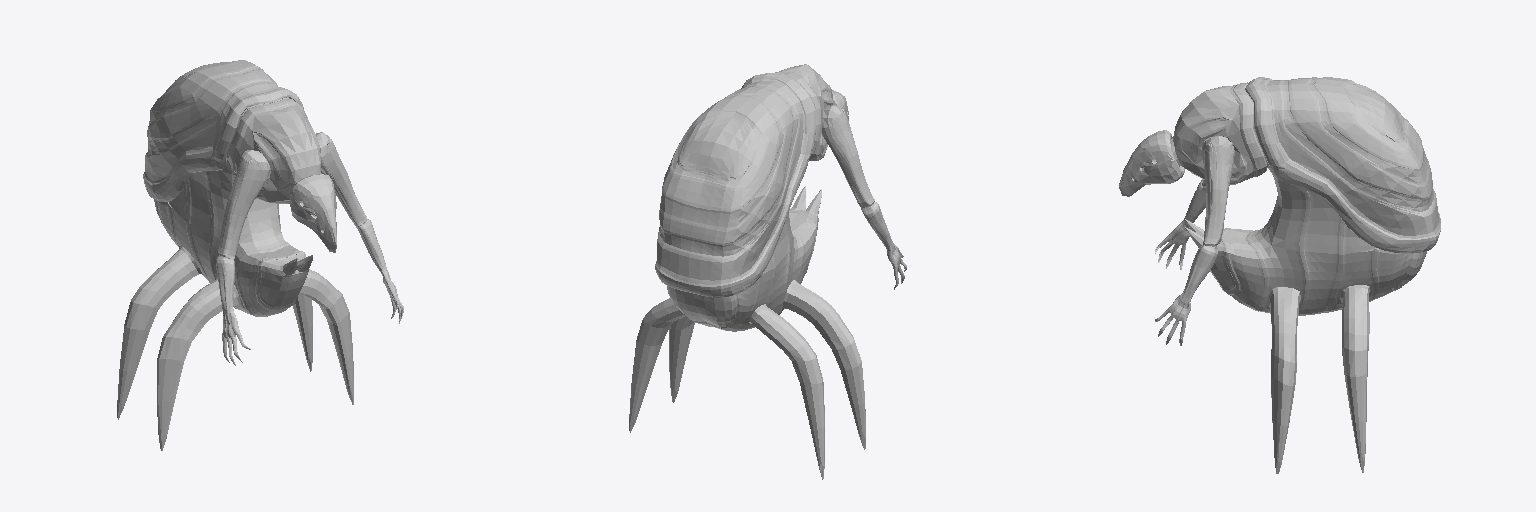
The model's file is Aranar.0001.obj.
The picture shows the model from 3 angles: view 1: azimuth 30°, elevation 25°; view 2: azimuth 150°, elevation 25°; view 3: azimuth 270°, elevation 25°; orthographic projection.
Bounding box in the file's own units: 2.28 × 3.84 × 3.26.